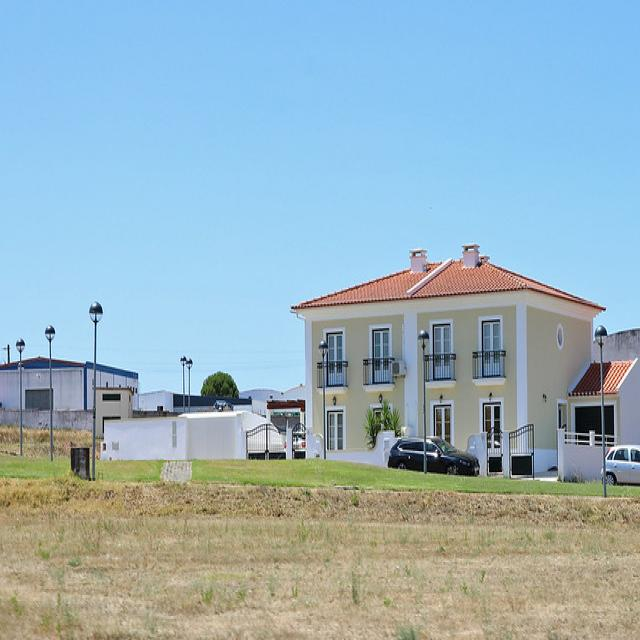Normal_building: (287, 241, 608, 474)
